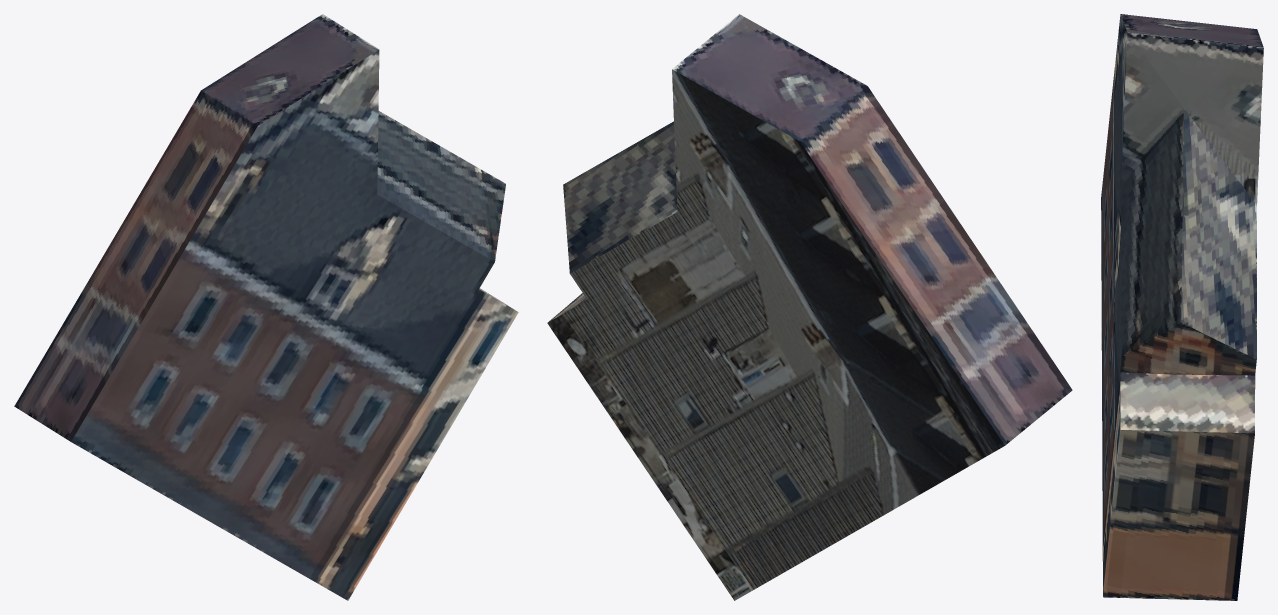
3 renders of one model, left to right at view 1: azimuth 30°, elevation 25°; view 2: azimuth 150°, elevation 25°; view 3: azimuth 270°, elevation 25°, orthographic. The views are drawn at different scales.
Visible parts, largest first — view 1: BAG_0599100000671734; view 2: BAG_0599100000671734; view 3: BAG_0599100000671734 (×4).
Part boxes in pixels (x1,y1,x2,y2): BAG_0599100000671734: (14,14,518,600); BAG_0599100000671734: (547,14,1072,600); BAG_0599100000671734 (×4): (1101,14,1263,600).
Size of the model in its own units: 20.31 by 22.12 by 5.51.
Materials: 4 (4 with a texture image).
